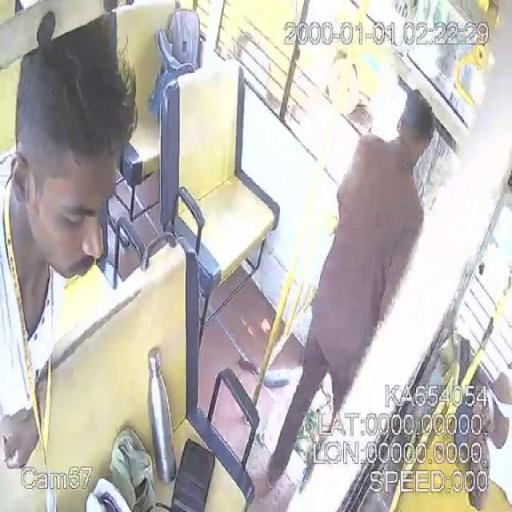persona: (261, 78, 437, 493), (1, 8, 139, 474)
